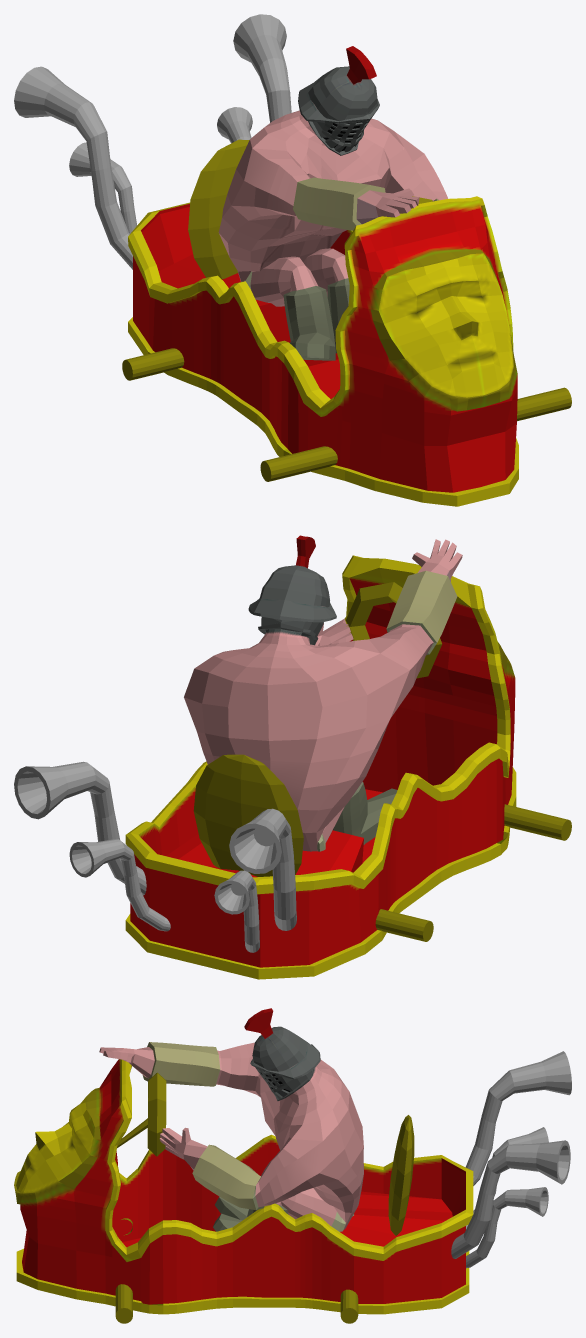
File: gladiVacile_000526.obj
The picture shows the model from 3 angles, top to bottom: view 1: azimuth 30°, elevation 25°; view 2: azimuth 150°, elevation 25°; view 3: azimuth 270°, elevation 25°; orthographic projection. The views are drawn at different scales.
Visible parts, largest first — view 1: GladiChasis_GladiChasisH, Gadiador_Gladiador_H.001, GladiTubos_GladiTubosH, GladiVolante_GladiVolanteH; view 2: GladiChasis_GladiChasisH, Gadiador_Gladiador_H.001, GladiTubos_GladiTubosH, GladiVolante_GladiVolanteH; view 3: GladiChasis_GladiChasisH, Gadiador_Gladiador_H.001, GladiTubos_GladiTubosH, GladiVolante_GladiVolanteH.
Part boxes in pixels (x1,y1,x2,y2): GladiChasis_GladiChasisH: (128,196,518,506); Gadiador_Gladiador_H.001: (218,46,448,360); GladiTubos_GladiTubosH: (14,14,291,269); GladiVolante_GladiVolanteH: (122,139,571,481); GladiChasis_GladiChasisH: (125,555,516,979); Gadiador_Gladiador_H.001: (184,535,462,851); GladiTubos_GladiTubosH: (14,761,296,952); GladiVolante_GladiVolanteH: (193,582,571,941); GladiChasis_GladiChasisH: (14,1059,473,1314); Gadiador_Gladiador_H.001: (99,1008,363,1231); GladiTubos_GladiTubosH: (451,1051,571,1268); GladiVolante_GladiVolanteH: (115,1072,414,1323).
Size of the model in its own units: 5.46 by 5.77 by 10.78.
